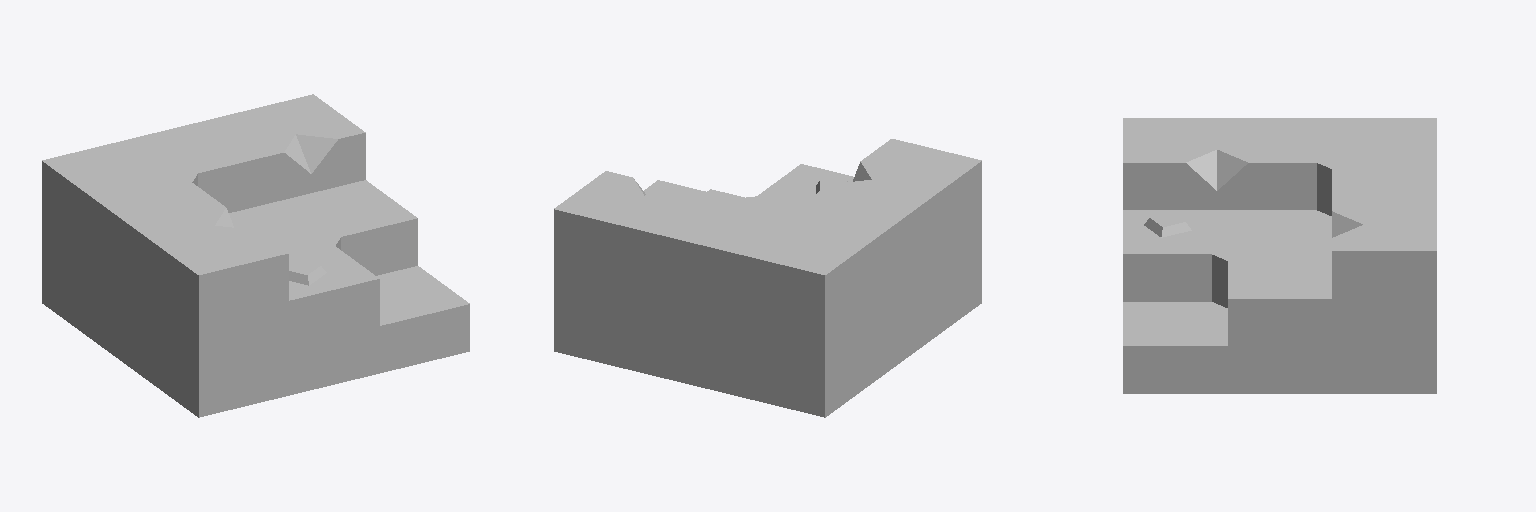
File: @stairs-corner-inner.002.obj
3 renders of one model, left to right at view 1: azimuth 30°, elevation 25°; view 2: azimuth 150°, elevation 25°; view 3: azimuth 270°, elevation 25°, orthographic.
Parts seen in each view (by area): view 1: stairs-corner-inner.003; view 2: stairs-corner-inner.003; view 3: stairs-corner-inner.003.
Part boxes in pixels (left/top/right/bottom): stairs-corner-inner.003: left=42, top=94, right=469, bottom=417; stairs-corner-inner.003: left=554, top=139, right=981, bottom=417; stairs-corner-inner.003: left=1123, top=118, right=1436, bottom=393.
Size of the model in its own units: 1 by 0.5 by 1.